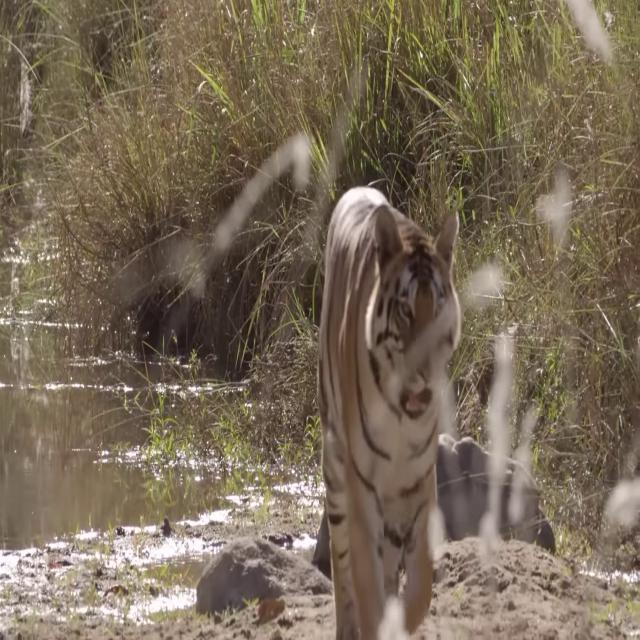tiger: (316, 179, 461, 640)
